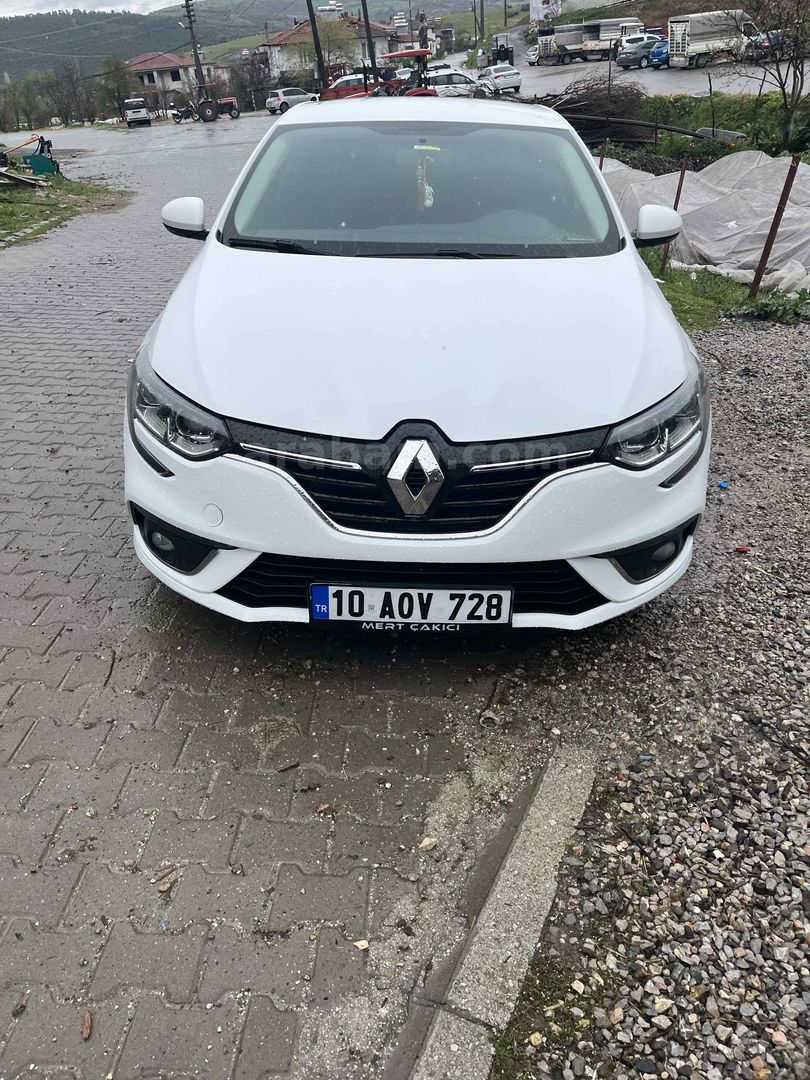plate: (310, 588, 519, 631)
